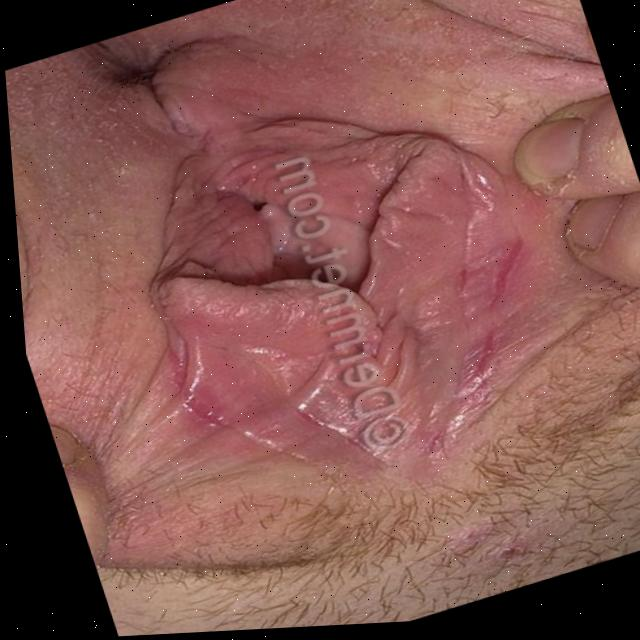Eczema: (127, 50, 619, 532)
